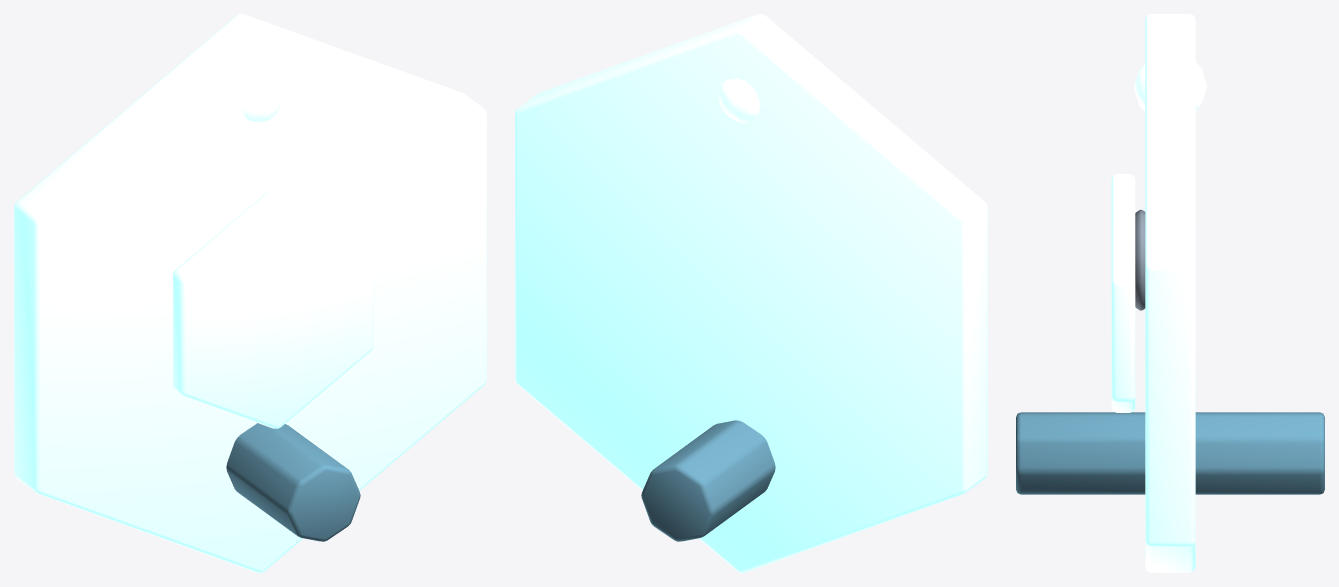
The model's file is frost_tower.glb.
The picture shows the model from 3 angles, left to right: view 1: azimuth 30°, elevation 25°; view 2: azimuth 150°, elevation 25°; view 3: azimuth 270°, elevation 25°; orthographic projection. The views are drawn at different scales.
Visible parts, largest first — view 1: spire, barrel, plinth, crystalCore; view 2: spire, plinth, crystalCore; view 3: spire, plinth, barrel, frostRing, crystalCore.
Part boxes in pixels (x1,y1,x2,y2): spire: (14, 14, 486, 572); barrel: (173, 192, 373, 428); plinth: (226, 423, 360, 541); crystalCore: (242, 78, 283, 122); spire: (515, 14, 987, 572); plinth: (641, 420, 775, 541); crystalCore: (719, 78, 760, 123); spire: (1145, 14, 1195, 572); plinth: (1016, 412, 1324, 494); barrel: (1111, 174, 1135, 412); frostRing: (1135, 209, 1145, 310); crystalCore: (1134, 62, 1206, 110).
Bounding box in the file's own units: 3.64 × 4.18 × 2.1.
